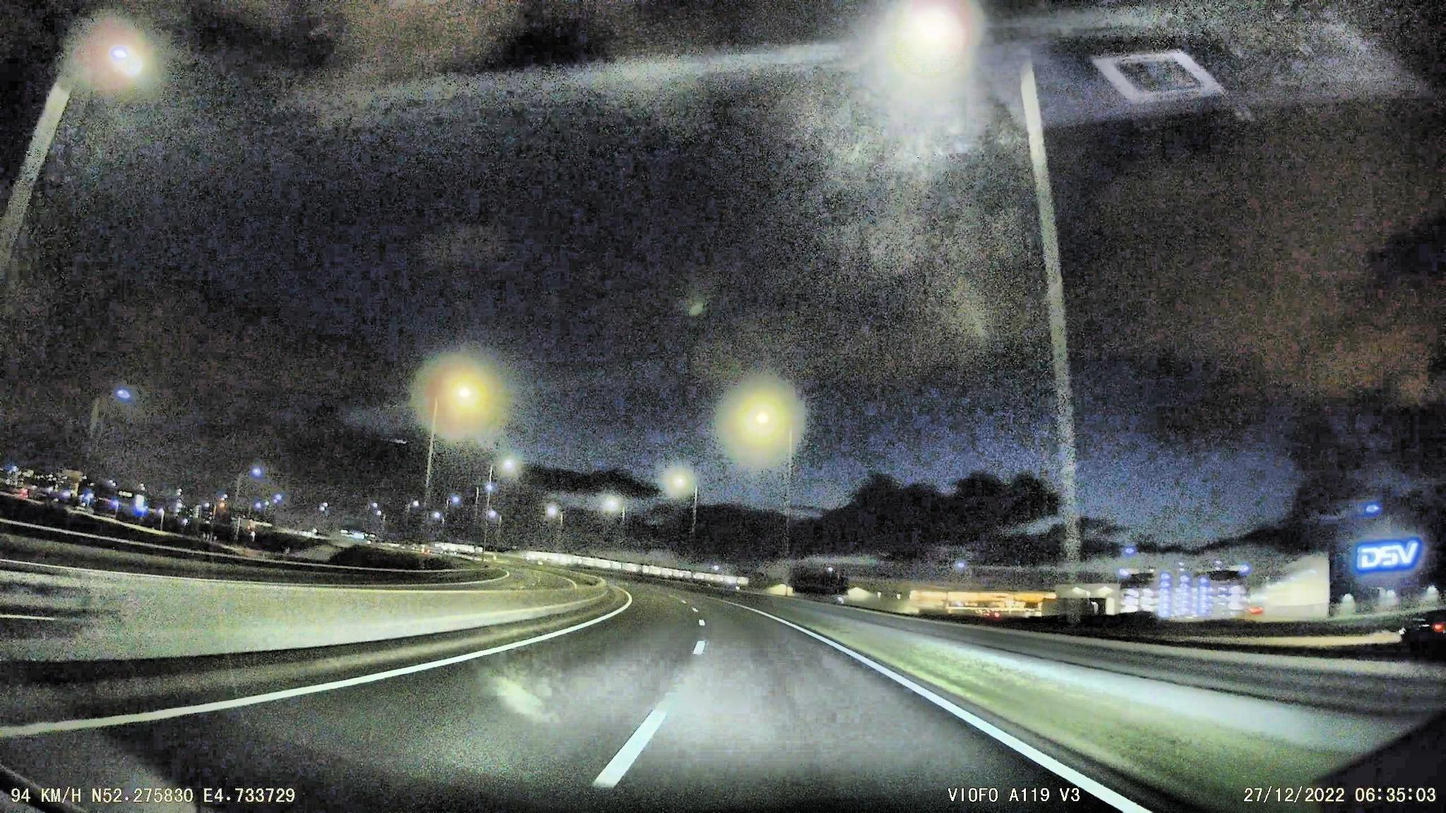Roads: (0, 601, 1123, 813)
